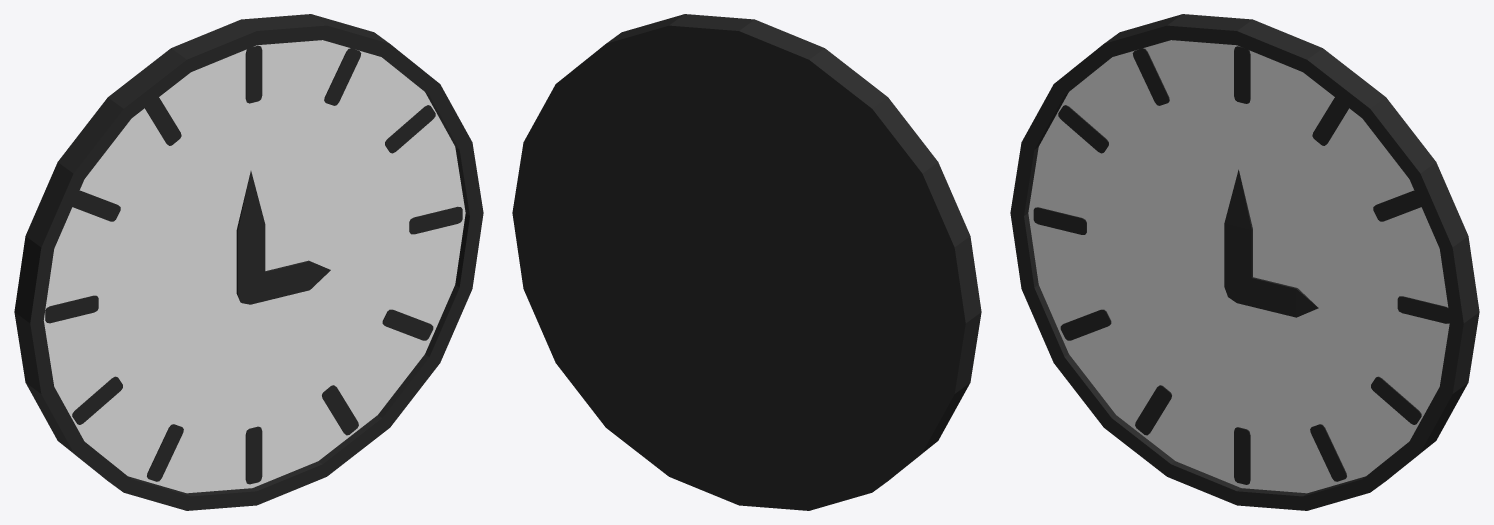
File: Clock_3.fbx
3 renders of one model, left to right at view 1: azimuth 30°, elevation 25°; view 2: azimuth 150°, elevation 25°; view 3: azimuth 330°, elevation 25°, orthographic.
Parts seen in each view (by area): view 1: Clock_3; view 2: Clock_3; view 3: Clock_3.
Part boxes in pixels (x1,y1,x2,y2): Clock_3: (14, 14, 483, 510); Clock_3: (512, 14, 981, 510); Clock_3: (1010, 14, 1479, 510).
Size of the model in its own units: 0.4082 by 0.4082 by 0.0247.
